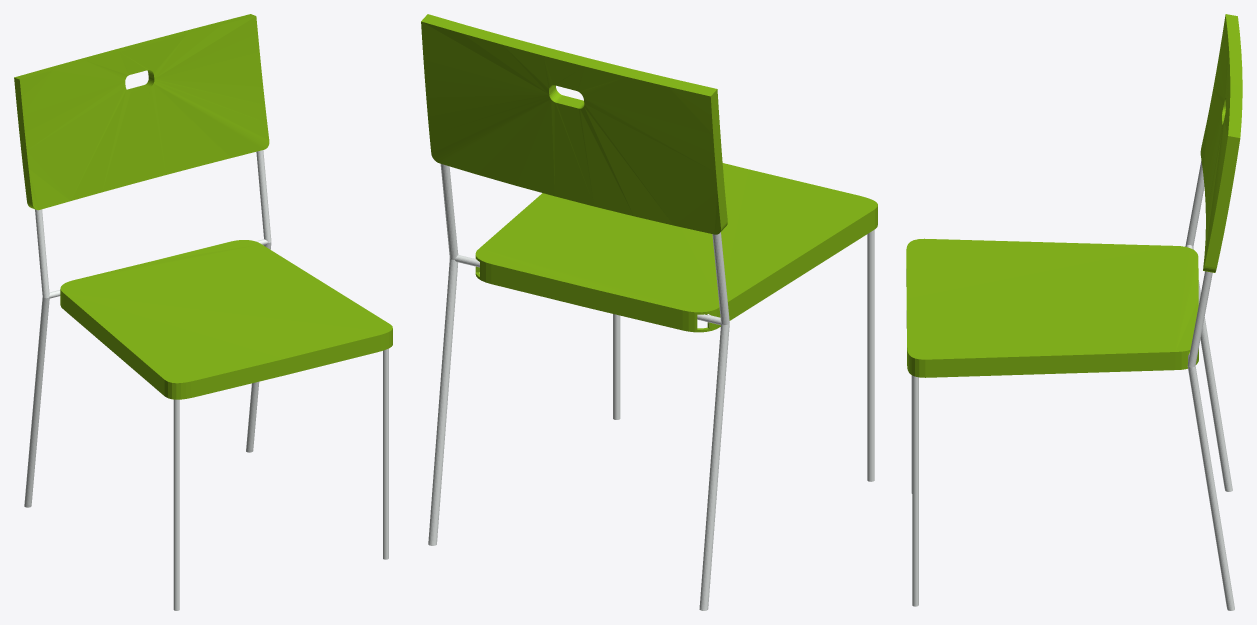
Rendered from IKEA-IKEA_Herman_Chair-3D.obj.
The picture shows the model from 3 angles, left to right: view 1: azimuth 30°, elevation 25°; view 2: azimuth 150°, elevation 25°; view 3: azimuth 270°, elevation 25°; orthographic projection. The views are drawn at different scales.
Parts seen in each view (by area): view 1: Layer_____1, Layer_0; view 2: Layer_____1, Layer_0; view 3: Layer_____1, Layer_0.
Boxes of the visible parts, bbox=[...] form: Layer_____1: bbox=[14, 14, 392, 399]; Layer_0: bbox=[24, 150, 388, 610]; Layer_____1: bbox=[421, 14, 877, 332]; Layer_0: bbox=[428, 164, 874, 610]; Layer_____1: bbox=[906, 14, 1242, 377]; Layer_0: bbox=[911, 161, 1234, 610].
Bounding box in the file's own units: 455 × 788 × 504.
